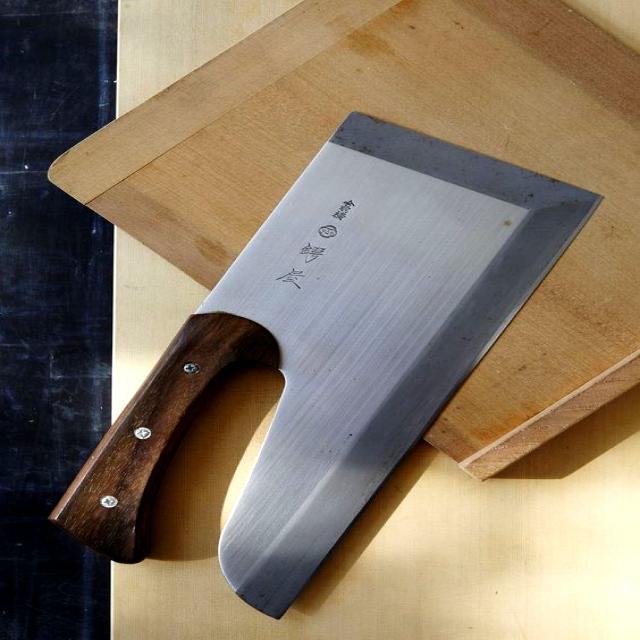cleaver: (54, 114, 613, 620)
